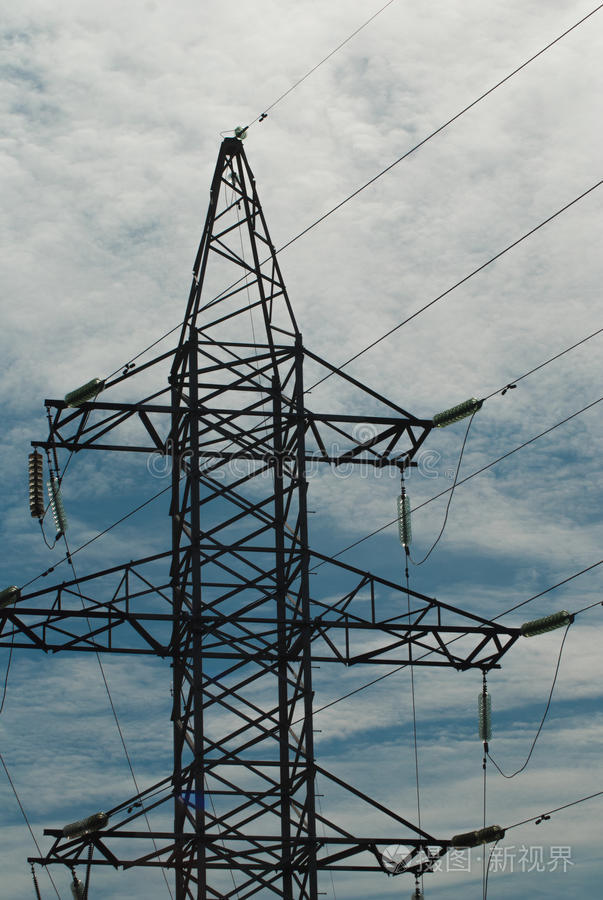insulator: (24, 453, 45, 520), (451, 825, 505, 848), (62, 812, 105, 838), (47, 478, 68, 529), (475, 692, 496, 743), (63, 379, 102, 406), (433, 403, 476, 427), (395, 492, 414, 545), (519, 613, 565, 633)
